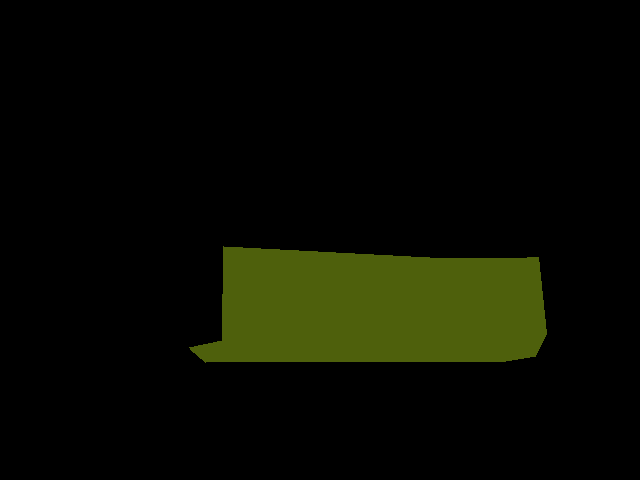Train: (189, 246, 546, 363)
